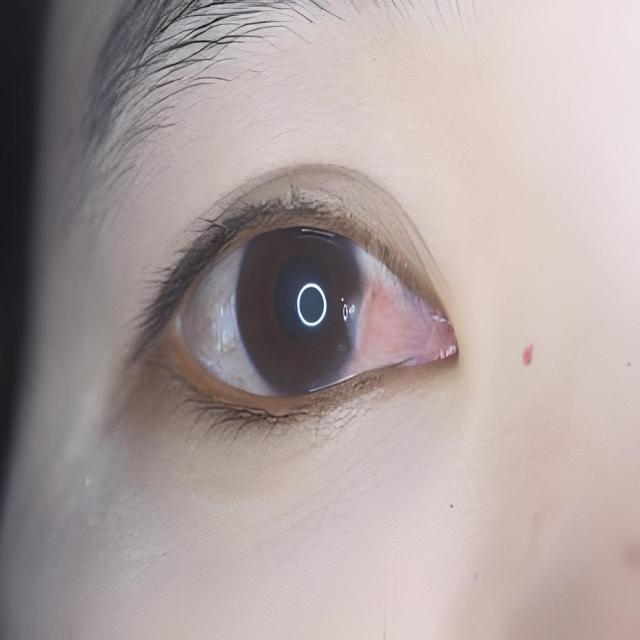Pterygium: (334, 266, 441, 372)
